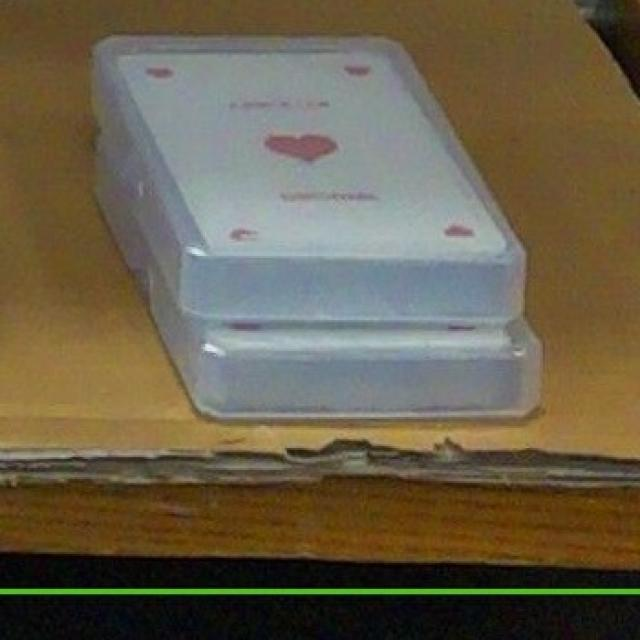Jasskarte: (93, 37, 525, 324), (126, 241, 541, 421)
